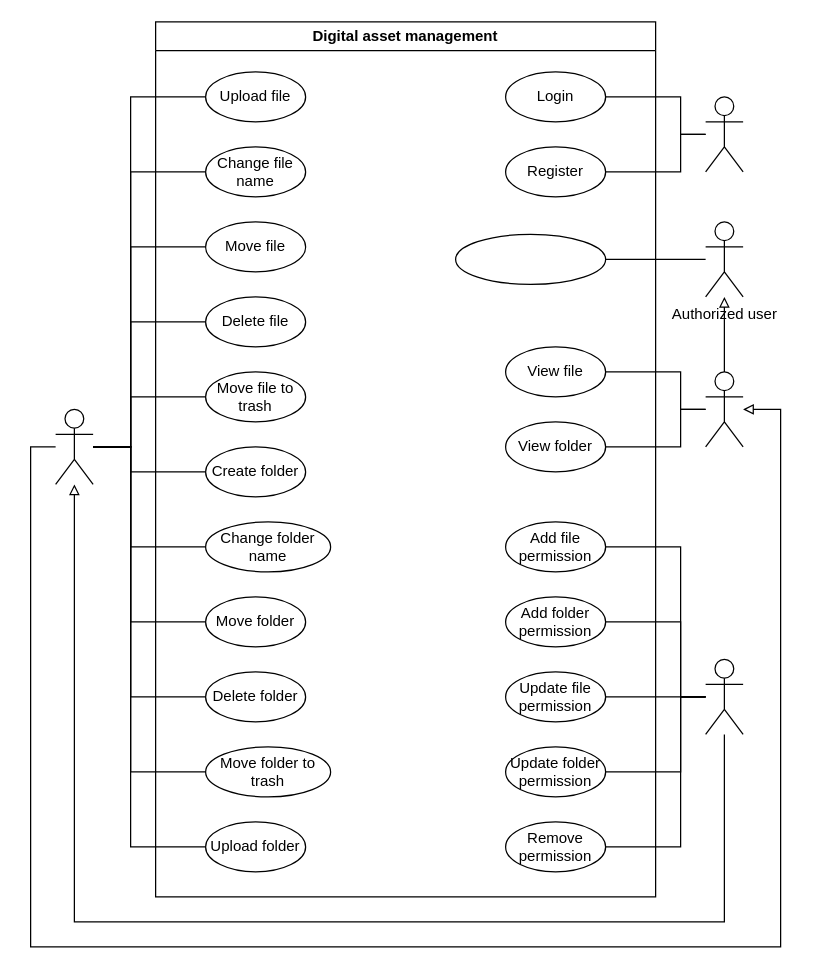
Some shapes in this 813 by 979 pixel diagram are drawn without their labels. The shapes that lost their labels are listed below. From the top down, each one's box as (x1, y1, x2, y2) in pixels, then its label:
(704, 96, 743, 172): Guest
(454, 233, 606, 284): Request resource access
(704, 371, 743, 447): Reader
(54, 408, 93, 484): Contributor
(704, 658, 743, 734): Admin
